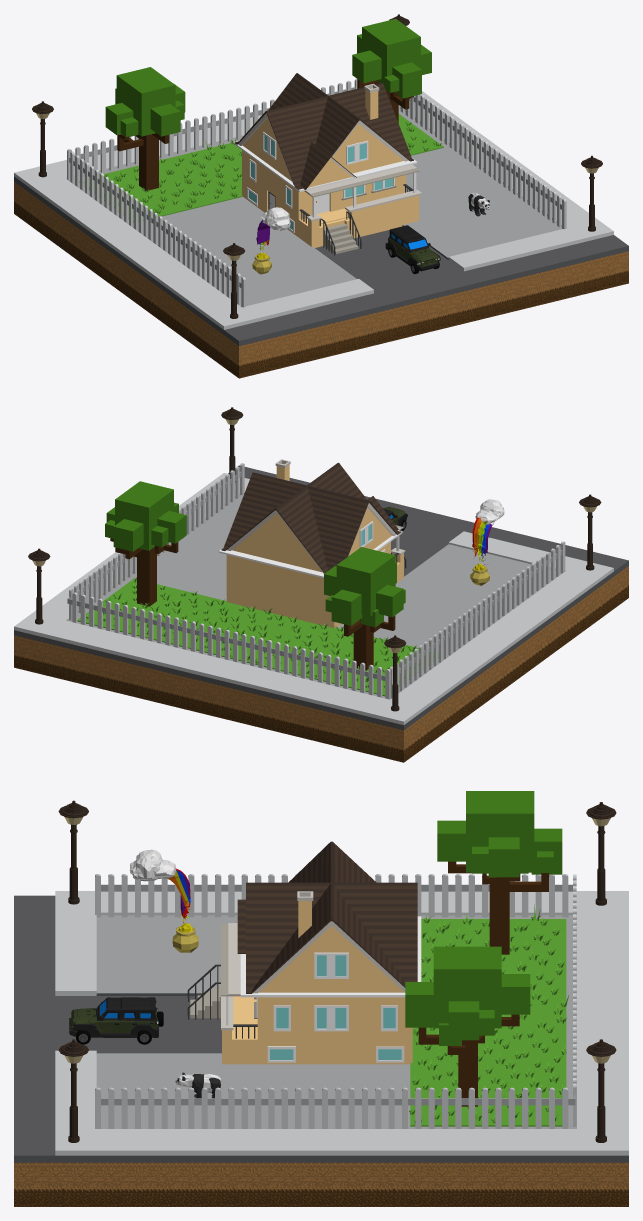
3 renders of one model, top to bottom at view 1: azimuth 30°, elevation 25°; view 2: azimuth 150°, elevation 25°; view 3: azimuth 270°, elevation 25°, orthographic. The views are drawn at different scales.
Parts seen in each view (by area): view 1: Cube.004, Cube.235, VEHICLES_JEEP, OBJRANDOM_RAINBOW; view 2: Cube.004, Cube.235, OBJRANDOM_RAINBOW; view 3: Cube.004, Cube.235, VEHICLES_JEEP, OBJRANDOM_RAINBOW, ANIMAL_PANDA.
Boxes of the visible parts, <box> form: Cube.004: <box>14,14,628,378</box>; Cube.235: <box>233,73,422,255</box>; VEHICLES_JEEP: <box>385,225,440,274</box>; OBJRANDOM_RAINBOW: <box>252,207,290,274</box>; Cube.004: <box>14,407,628,762</box>; Cube.235: <box>218,459,406,627</box>; OBJRANDOM_RAINBOW: <box>470,499,504,585</box>; Cube.004: <box>14,791,628,1206</box>; Cube.235: <box>187,841,421,1064</box>; VEHICLES_JEEP: <box>69,997,163,1044</box>; OBJRANDOM_RAINBOW: <box>129,849,198,952</box>; ANIMAL_PANDA: <box>175,1072,221,1098</box>.
Size of the model in its own units: 4000 by 1753 by 4000.
37 materials, 3 textured.
